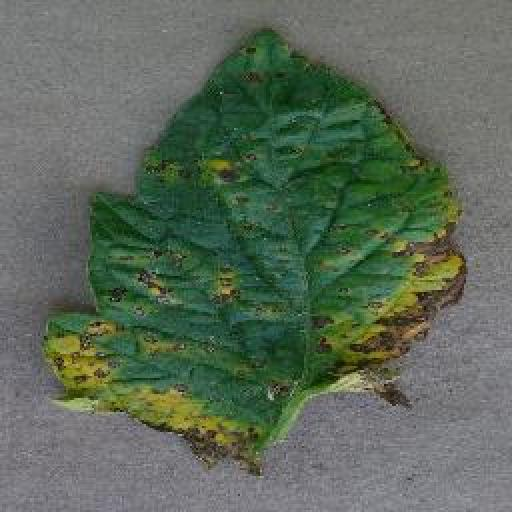Early Blight: (38, 23, 472, 469)
